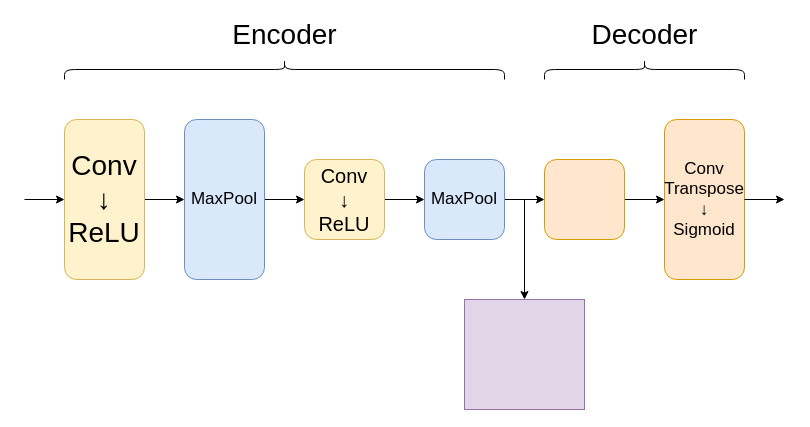
The diagram is 810 pixels wide and 427 high, and some of its shapes have lost their labels. The box of each missing label's shape, as (x1, y1, x2, y2) in pixels:
Conv Transpose →ReLU: (544, 158, 624, 240)
Encoded: (464, 298, 584, 410)
